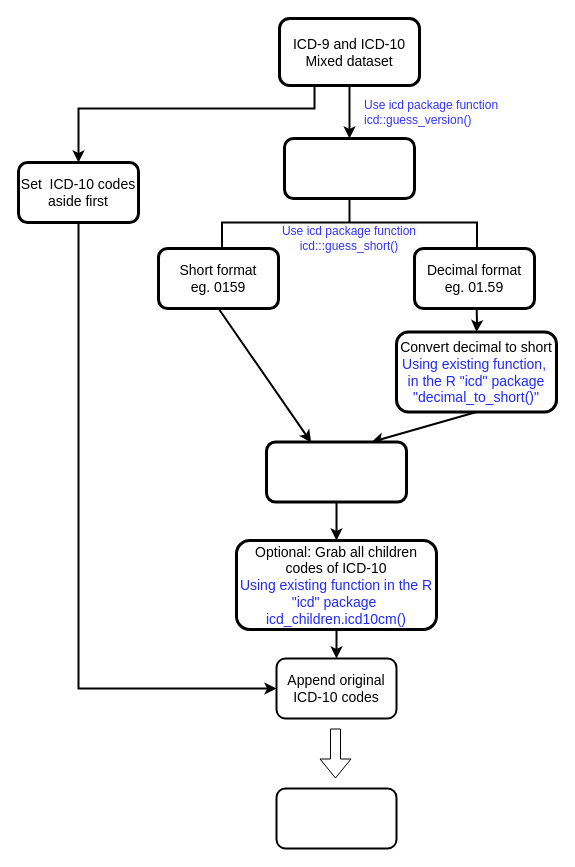
This 575x867 diagram has some shape labels left out. Here are the shapes that lost their labels. From the top down, the centre of each, then its label:
At (x=349, y=168): "Subset ICD-9 Diagnosis Codes".
At (x=336, y=471): "Convert ICD-9 to 10 Main goal of the hackathon project".
At (x=336, y=818): "Diagnosis codes all in ICD-10 format".
